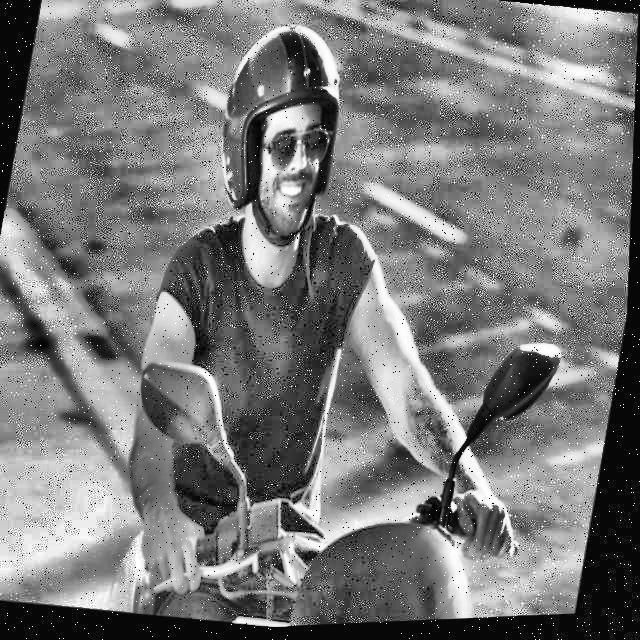Helmet: (194, 8, 364, 270)
